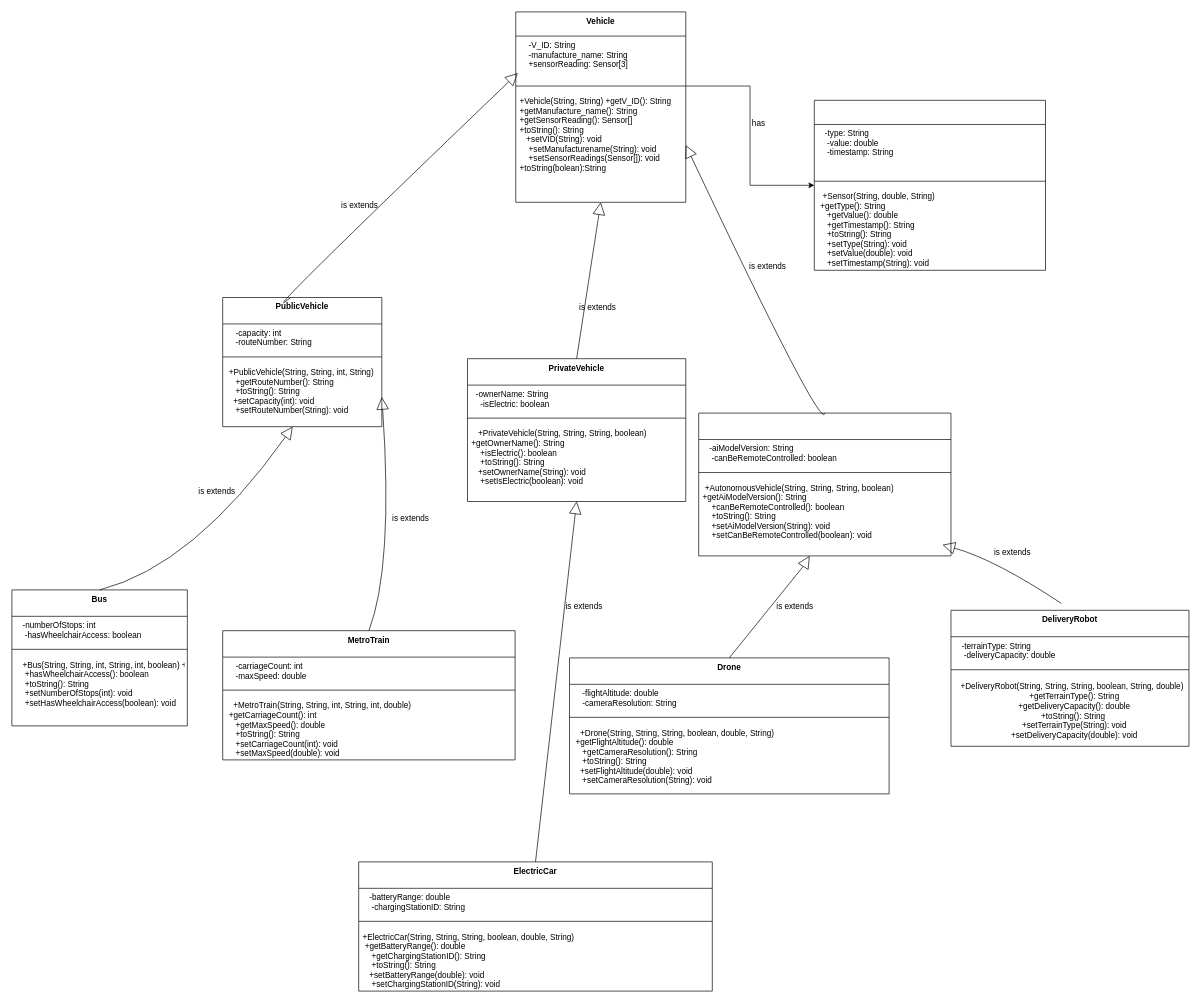
Some shapes in this 1201 by 1005 pixel diagram are drawn without their labels. The shapes that lost their labels are listed below. From the top down, each one's box as (x1, y1, x2, y2) in pixels, then its label:
(814, 100, 1046, 270): SensorReading
(698, 412, 951, 556): AutonomousDeliveryVehicle
